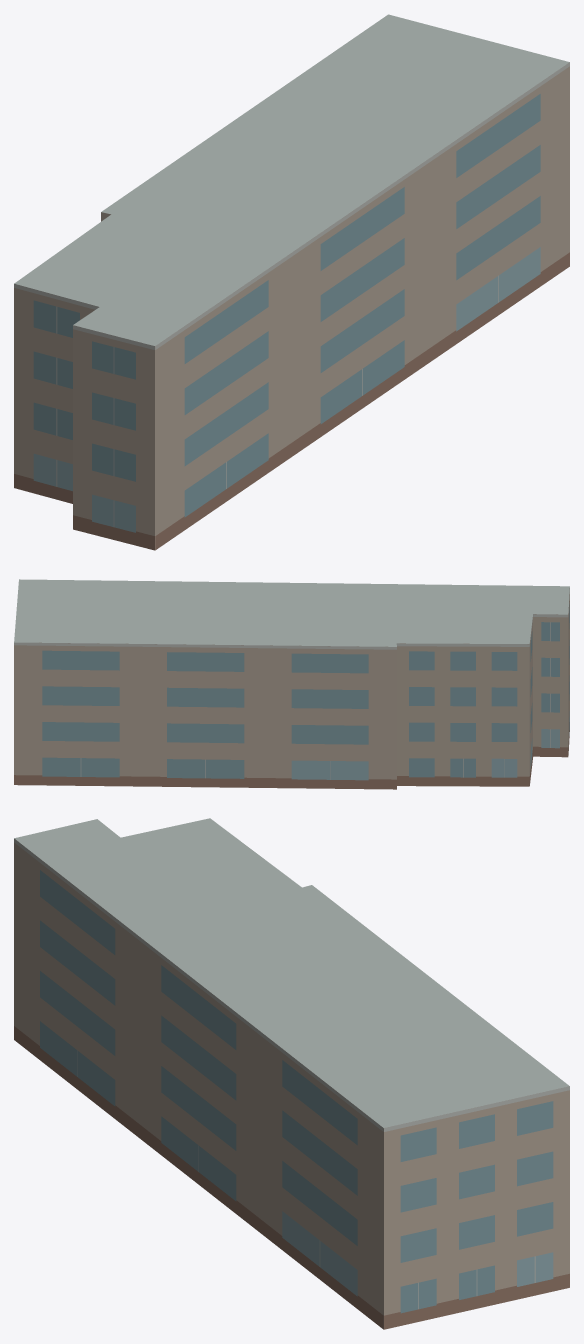
Rendered from survey-upis-32944132.glb.
3 renders of one model, top to bottom at view 1: azimuth 30°, elevation 25°; view 2: azimuth 150°, elevation 25°; view 3: azimuth 270°, elevation 25°, orthographic. The views are drawn at different scales.
Parts seen in each view (by area): view 1: survey-upis-32944132.tmp; view 2: survey-upis-32944132.tmp; view 3: survey-upis-32944132.tmp.
Boxes of the visible parts, left/top/right/bottom form: survey-upis-32944132.tmp: left=14, top=14, right=569, bottom=550; survey-upis-32944132.tmp: left=14, top=579, right=569, bottom=789; survey-upis-32944132.tmp: left=14, top=818, right=569, bottom=1329.
Size of the model in its own units: 40.24 by 12.2 by 30.5.
